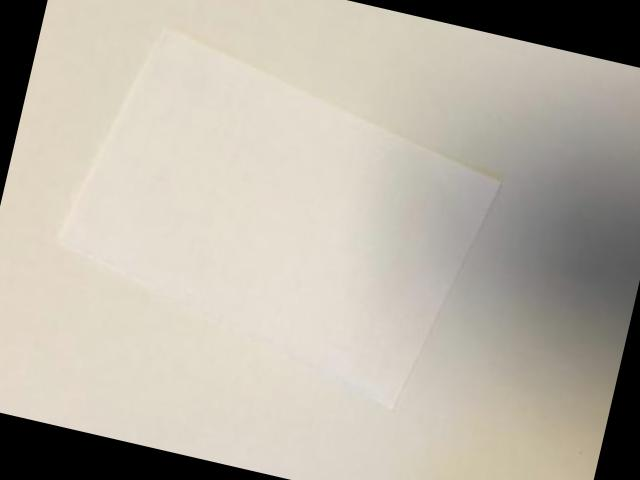cardboard paper: (58, 33, 496, 408)
